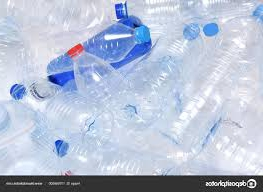plastic water bottle: (161, 2, 262, 155), (121, 18, 211, 120), (16, 18, 155, 81), (8, 77, 116, 148), (54, 129, 179, 175), (65, 45, 144, 117)
